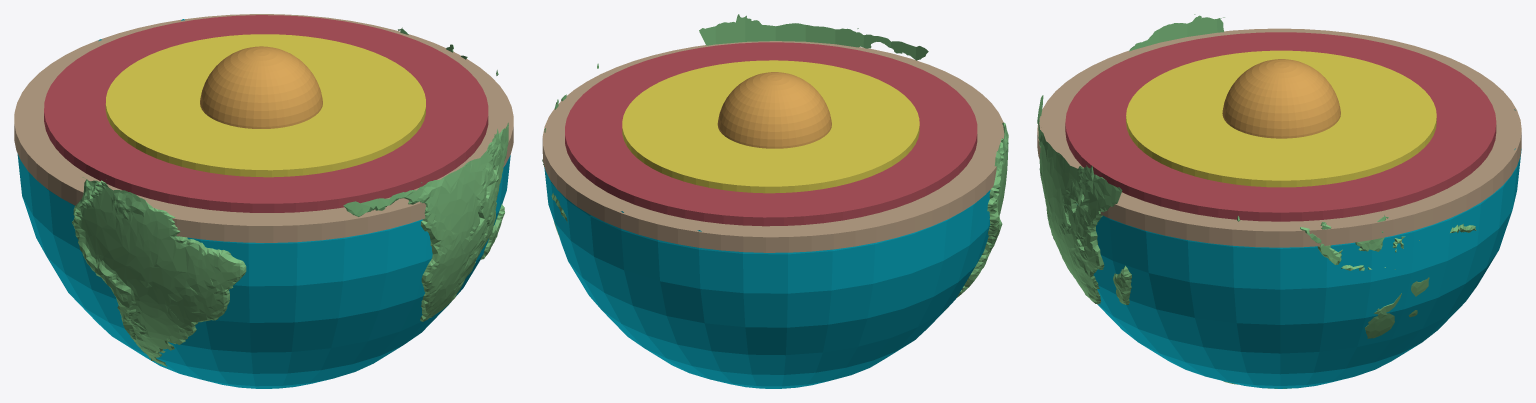
Rendered from asset.glb.
3 renders of one model, left to right at view 1: azimuth 30°, elevation 25°; view 2: azimuth 150°, elevation 25°; view 3: azimuth 270°, elevation 25°, orthographic. The views are drawn at different scales.
Parts seen in each view (by area): view 1: Mesh_Mesh_head_geo.001_lambert2SG.001; view 2: Mesh_Mesh_head_geo.001_lambert2SG.001; view 3: Mesh_Mesh_head_geo.001_lambert2SG.001.
Part boxes in pixels (x1,y1,x2,y2): Mesh_Mesh_head_geo.001_lambert2SG.001: (14, 14, 513, 388); Mesh_Mesh_head_geo.001_lambert2SG.001: (542, 14, 1008, 388); Mesh_Mesh_head_geo.001_lambert2SG.001: (1037, 14, 1521, 388).
Bounding box in the file's own units: 80.51 × 56 × 81.25.
